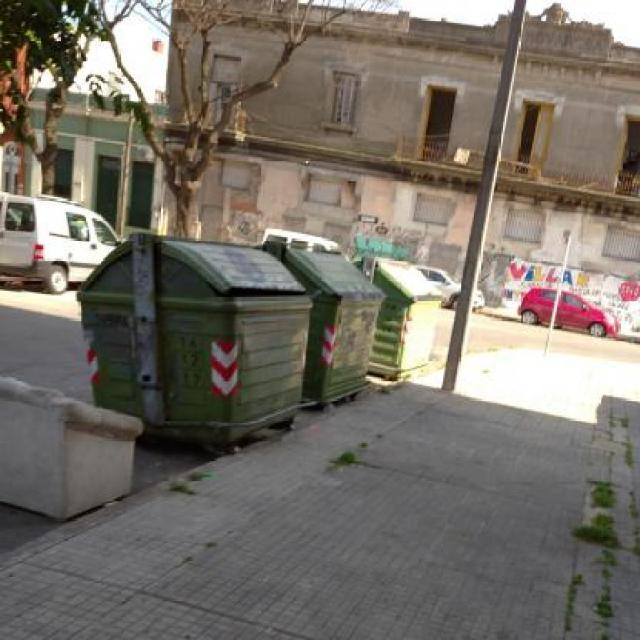garbage: (85, 220, 434, 434)
